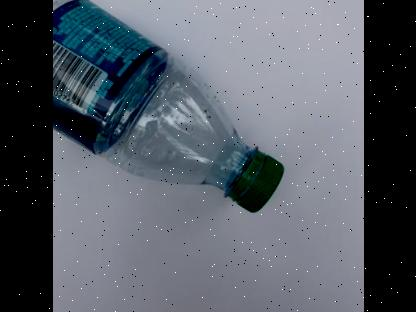Plastic Bottle: (52, 0, 283, 212)
